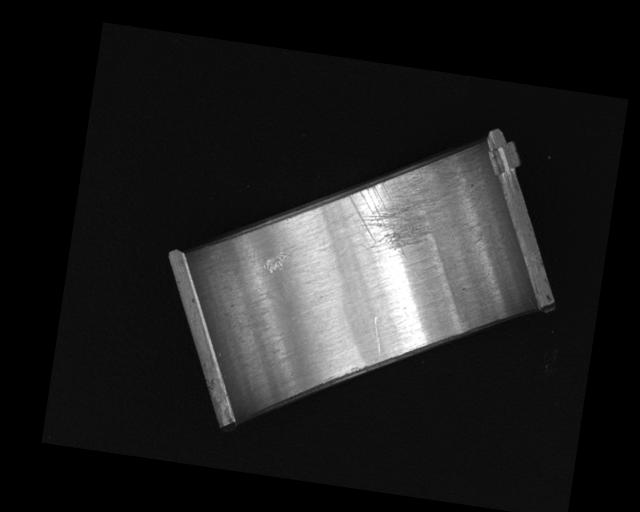bruise: (262, 249, 293, 277)
nick: (368, 316, 385, 357)
scratch: (340, 144, 449, 262)
